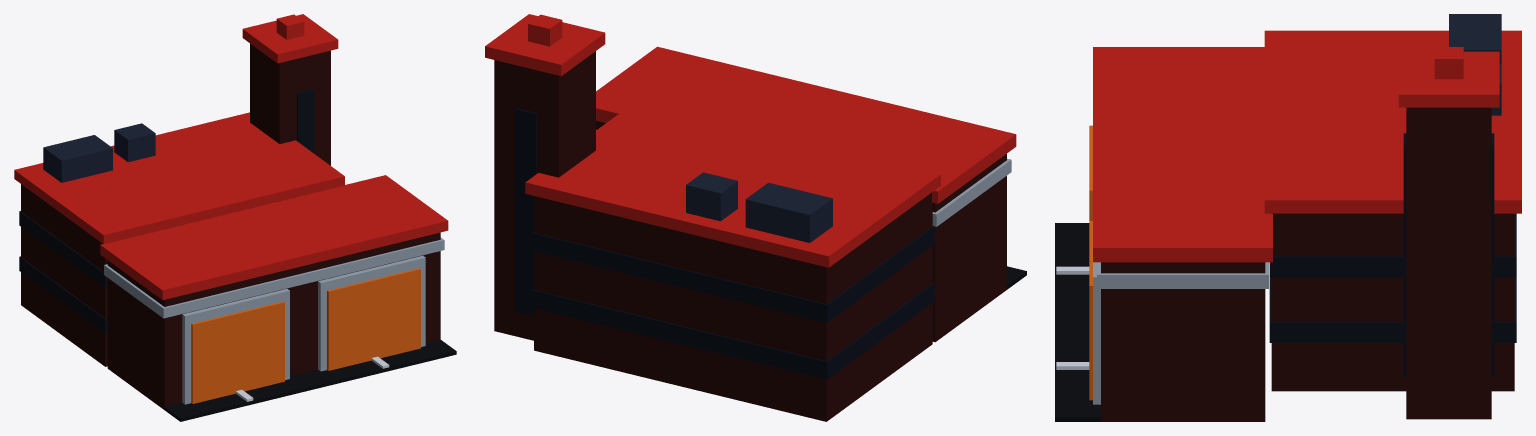
File: firestation.obj
3 views of the same model, side by side, from view 1: azimuth 30°, elevation 25°; view 2: azimuth 150°, elevation 25°; view 3: azimuth 270°, elevation 25° (orthographic). The views are drawn at different scales.
Parts seen in each view (by area): view 1: dorm-cap, hall-cap, bay-doors, hall, dorm, hose-tower, door-surrounds, apron, hall-stripe, roof-plant, dorm-glazing, tower-cap (+2 smaller); view 2: dorm, dorm-cap, hall-cap, dorm-glazing, hose-tower, hall, roof-plant, tower-cap, tower-glazing, hall-stripe, beacon; view 3: hall-cap, dorm-cap, hose-tower, hall, dorm, dorm-glazing, apron, tower-cap, hall-stripe, roof-plant, tower-glazing, bay-doors (+3 smaller).
Boxes of the visible parts, box(x1,y1,x2,y2) form: dorm-cap: box(14, 112, 344, 244); hall-cap: box(100, 175, 448, 300); bay-doors: box(191, 268, 420, 403); hall: box(107, 232, 440, 409); dorm: box(21, 184, 107, 366); hose-tower: box(250, 43, 330, 165); door-surrounds: box(182, 255, 425, 404); apron: box(164, 339, 456, 421); hall-stripe: box(104, 237, 444, 318); roof-plant: box(43, 123, 155, 182); dorm-glazing: box(19, 211, 107, 333); tower-cap: box(242, 14, 338, 63); dorm: box(534, 192, 932, 421); dorm-cap: box(525, 100, 940, 267); hall-cap: box(596, 46, 1016, 203); dorm-glazing: box(531, 226, 934, 379); hose-tower: box(494, 51, 595, 340); hall: box(596, 120, 1006, 342); roof-plant: box(686, 172, 832, 242); tower-cap: box(485, 14, 605, 76); tower-glazing: box(515, 108, 536, 315); hall-stripe: box(596, 130, 1011, 226); beacon: box(528, 14, 562, 46); hall-cap: box(1093, 47, 1272, 262); dorm-cap: box(1264, 30, 1521, 213); hose-tower: box(1406, 107, 1491, 419); hall: box(1101, 262, 1265, 421); dorm: box(1271, 213, 1514, 391); dorm-glazing: box(1269, 213, 1516, 342); apron: box(1055, 223, 1101, 421); tower-cap: box(1398, 51, 1499, 107); hall-stripe: box(1097, 262, 1268, 288); roof-plant: box(1449, 14, 1501, 115); tower-glazing: box(1403, 133, 1494, 377); bay-doors: box(1089, 125, 1092, 400).
Size of the model in its own units: 7.24 by 5.85 by 7.11.
